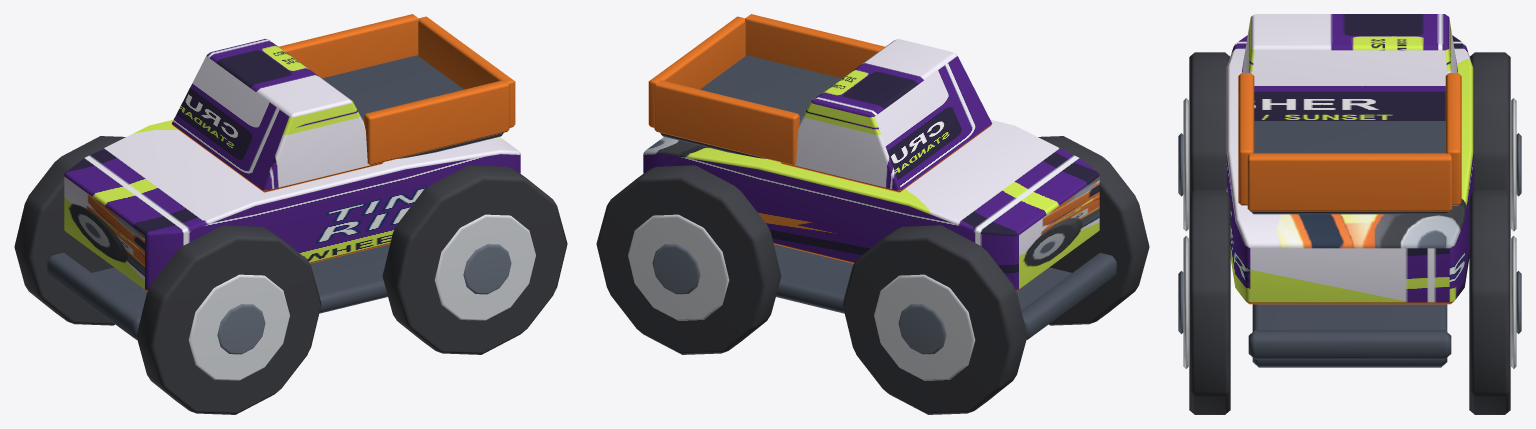
The picture shows the model from 3 angles, left to right: view 1: azimuth 30°, elevation 25°; view 2: azimuth 150°, elevation 25°; view 3: azimuth 270°, elevation 25°; orthographic projection. The views are drawn at different scales.
Visible parts, largest first — view 1: BW-01_connected_shell, BW-01_cabin, Tire, Tire.002, Tire.001, cargo side, Rim, Rim.002, cargo side.001, cargo floor, underbody, cargo tail (+3 smaller); view 2: BW-01_connected_shell, BW-01_cabin, Tire.001, Tire.003, Tire, cargo side.001, Rim.001, Rim.003, cargo side, cargo floor, underbody, cargo tail (+3 smaller); view 3: BW-01_connected_shell, BW-01_cabin, cargo tail, Tire.002, Tire.003, cargo floor, underbody, rear bumper, Tire, Tire.001, cargo side, cargo side.001 (+8 smaller).
Boxes of the visible parts, left/top/right/bottom form: BW-01_connected_shell: left=64, top=119, right=520, bottom=291; BW-01_cabin: left=171, top=38, right=382, bottom=192; Tire: left=136, top=225, right=321, bottom=414; Tire.002: left=382, top=165, right=567, bottom=354; Tire.001: left=14, top=136, right=125, bottom=325; cargo side: left=364, top=80, right=509, bottom=165; Rim: left=188, top=274, right=289, bottom=380; Rim.002: left=434, top=214, right=535, bottom=320; cargo side.001: left=279, top=14, right=418, bottom=78; cargo floor: left=322, top=55, right=503, bottom=158; underbody: left=92, top=244, right=389, bottom=313; cargo tail: left=418, top=16, right=515, bottom=127; BW-01_connected_shell: left=643, top=119, right=1099, bottom=291; BW-01_cabin: left=781, top=38, right=992, bottom=192; Tire.001: left=842, top=225, right=1027, bottom=414; Tire.003: left=596, top=165, right=781, bottom=354; Tire: left=1038, top=136, right=1149, bottom=325; cargo side.001: left=654, top=80, right=799, bottom=165; Rim.001: left=874, top=274, right=975, bottom=380; Rim.003: left=628, top=214, right=729, bottom=320; cargo side: left=745, top=14, right=884, bottom=78; cargo floor: left=660, top=55, right=841, bottom=158; underbody: left=774, top=244, right=1071, bottom=313; cargo tail: left=648, top=16, right=745, bottom=127; BW-01_connected_shell: left=1226, top=35, right=1473, bottom=304; BW-01_cabin: left=1242, top=14, right=1457, bottom=120; cargo tail: left=1247, top=153, right=1452, bottom=211; Tire.002: left=1189, top=190, right=1230, bottom=414; Tire.003: left=1469, top=190, right=1510, bottom=414; cargo floor: left=1251, top=121, right=1448, bottom=214; underbody: left=1252, top=304, right=1447, bottom=367; rear bumper: left=1248, top=330, right=1451, bottom=359; Tire: left=1189, top=52, right=1229, bottom=194; Tire.001: left=1470, top=52, right=1510, bottom=194; cargo side: left=1238, top=73, right=1254, bottom=205; cargo side.001: left=1445, top=73, right=1461, bottom=205.
Size of the model in its own units: 350 by 210 by 217.
